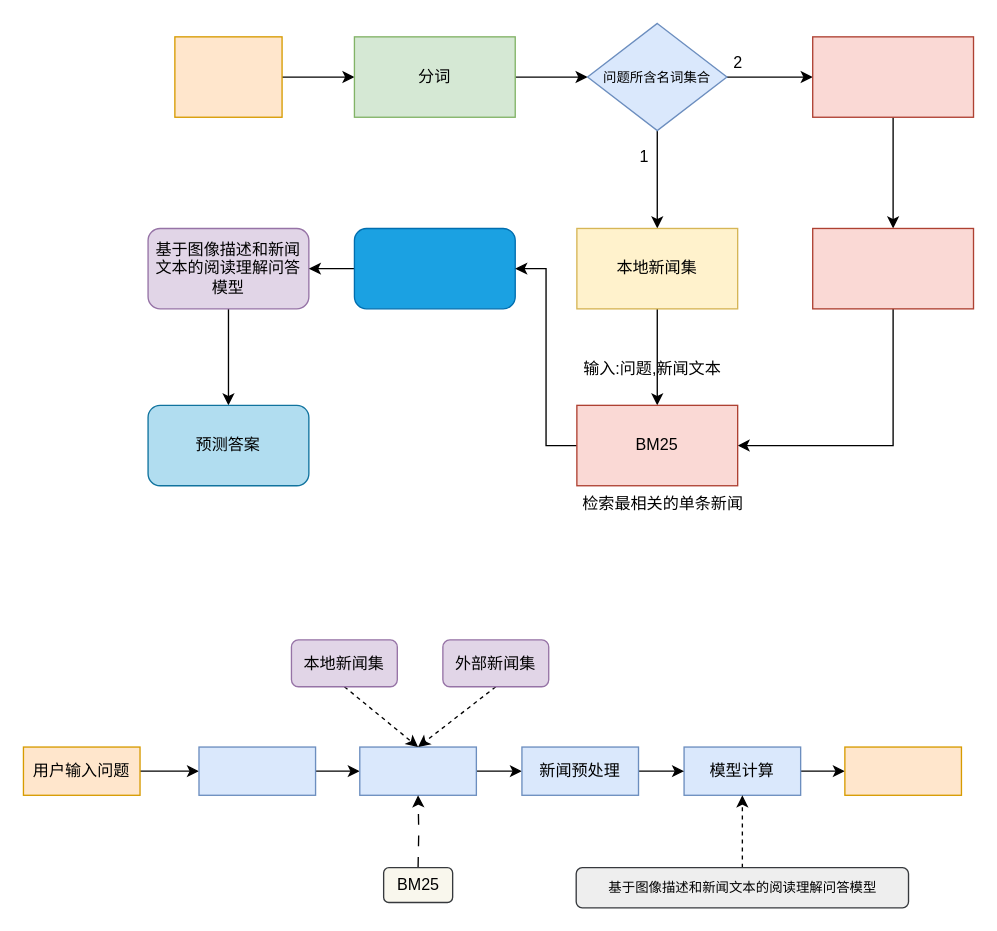
This 997x931 diagram has some shape labels left out. The shapes that lost their labels are listed below. From the top down, each one's centre as x and y in pixels, then its label:
At point 228,76: "用户问题".
At point 892,76: "若1的score低于10%，则在备选的船舶网址中进行检索".
At point 434,268: "船舶类新闻（图文）".
At point 892,268: "实时爬取新闻篇章".
At point 257,770: "问题预处理".
At point 417,770: "问题与新闻匹配".
At point 902,770: "输出答案".
